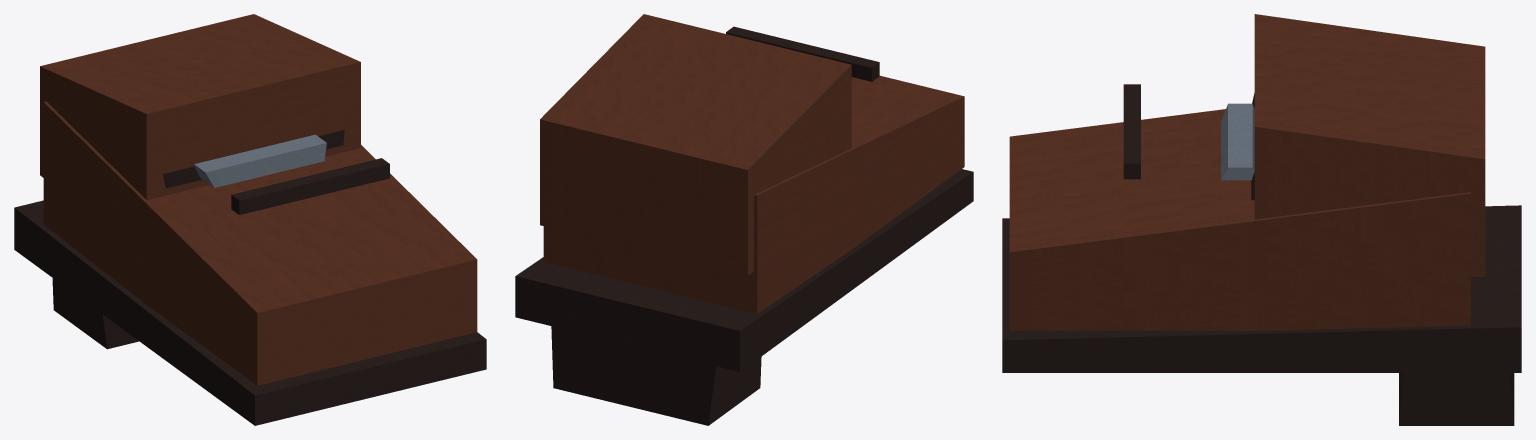
Rendered from campus_loafer.gltf.
3 renders of one model, left to right at view 1: azimuth 30°, elevation 25°; view 2: azimuth 150°, elevation 25°; view 3: azimuth 270°, elevation 25°, orthographic. The views are drawn at different scales.
Parts seen in each view (by area): view 1: Campus Penny Loafer; view 2: Campus Penny Loafer; view 3: Campus Penny Loafer.
Part boxes in pixels (x1=…): Campus Penny Loafer: x1=14, y1=14, x2=486, y2=425; Campus Penny Loafer: x1=515, y1=14, x2=973, y2=425; Campus Penny Loafer: x1=1002, y1=14, x2=1521, y2=425.
Bounding box in the file's own units: 0.2 × 0.24 × 0.36.
Materials: 3 (3 with a texture image).
